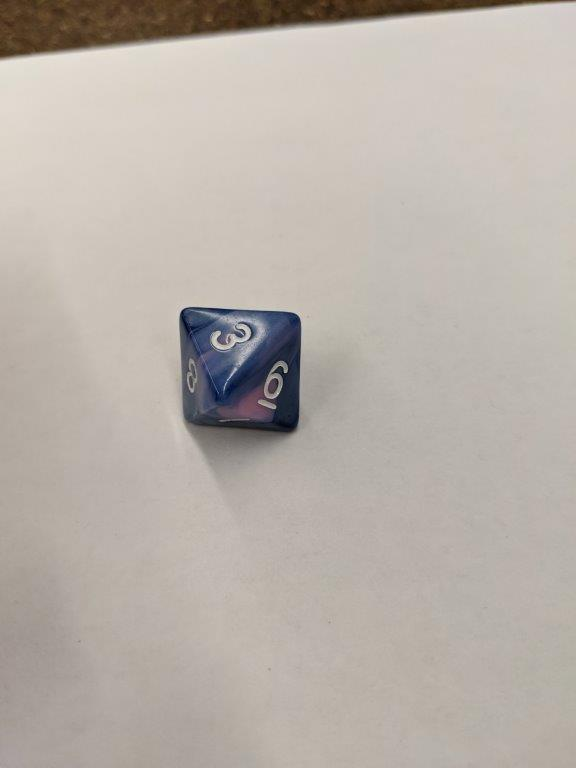d8-3: (178, 306, 303, 438)
